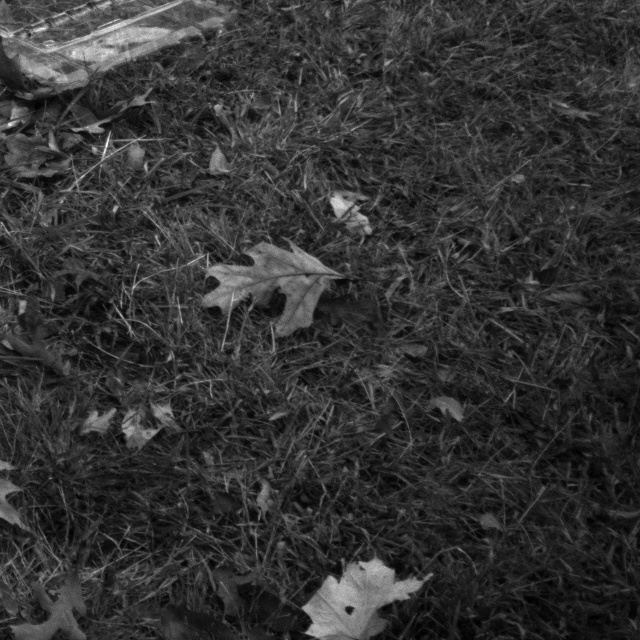container: (0, 0, 246, 122)
